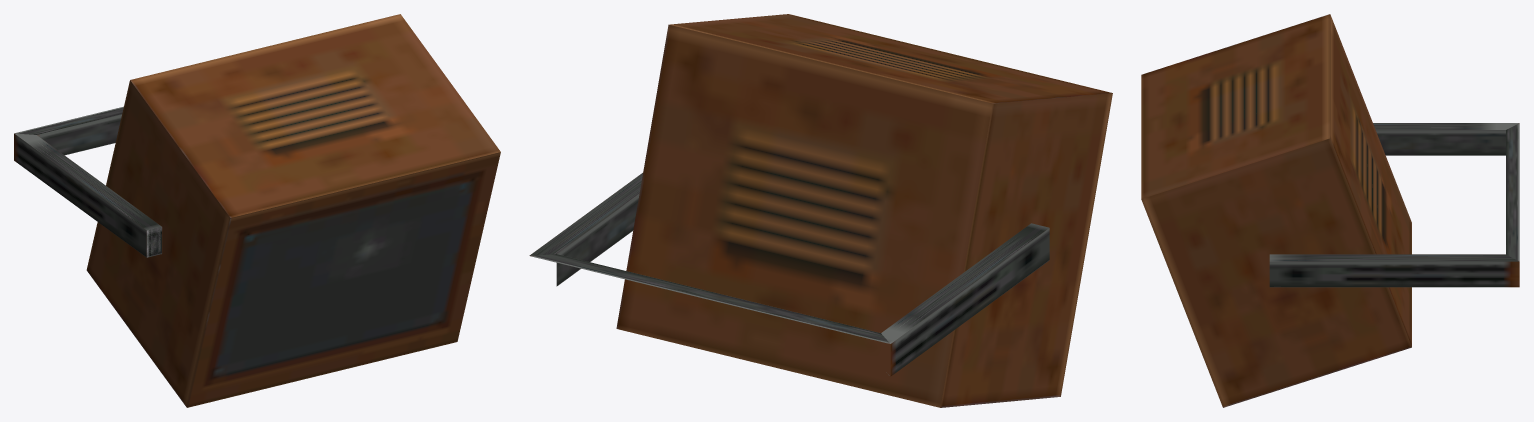
The model's file is Monitor_WallMounted.glb.
3 views of the same model, side by side, from view 1: azimuth 30°, elevation 25°; view 2: azimuth 150°, elevation 25°; view 3: azimuth 270°, elevation 25° (orthographic). The views are drawn at different scales.
Visible parts, largest first — view 1: MONITOR_WALLMOUNTED; view 2: MONITOR_WALLMOUNTED; view 3: MONITOR_WALLMOUNTED.
Boxes of the visible parts, x1=… form: MONITOR_WALLMOUNTED: x1=14, y1=14, x2=500, y2=407; MONITOR_WALLMOUNTED: x1=529, y1=14, x2=1112, y2=407; MONITOR_WALLMOUNTED: x1=1141, y1=14, x2=1519, y2=407.
Bounding box in the file's own units: 0.802 × 0.727 × 0.925.
Materials: 2 (2 with a texture image).
